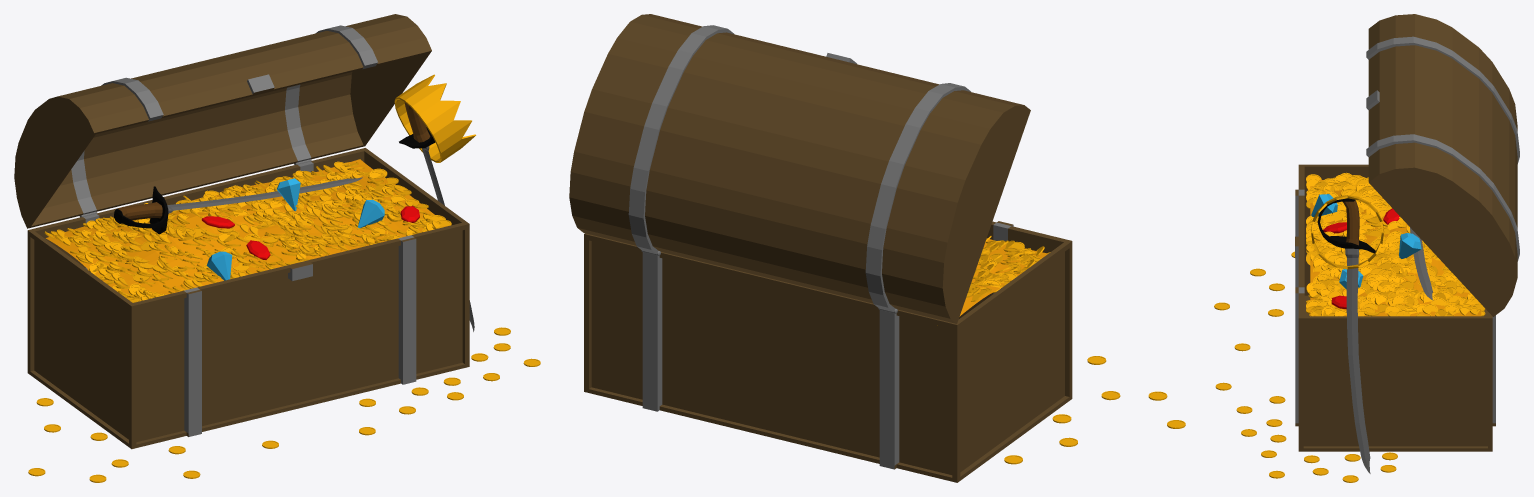
File: GoldChest.fbx
The picture shows the model from 3 angles, left to right: view 1: azimuth 30°, elevation 25°; view 2: azimuth 150°, elevation 25°; view 3: azimuth 270°, elevation 25°; orthographic projection. The views are drawn at different scales.
Visible parts, largest first — view 1: Chest; view 2: Chest; view 3: Chest.
Part boxes in pixels (x1,y1,x2,y2): Chest: (14, 14, 540, 482); Chest: (569, 14, 1185, 482); Chest: (1214, 14, 1519, 482).
Size of the model in its own units: 2.25 by 1.32 by 1.26.
